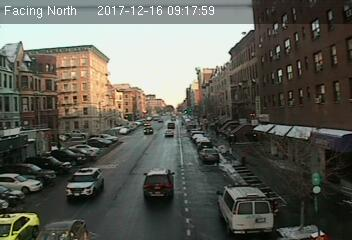car: (1, 210, 39, 240), (143, 168, 175, 202), (35, 220, 89, 240), (199, 147, 219, 162), (163, 129, 174, 136)
police: (214, 180, 274, 236), (64, 167, 105, 202)
